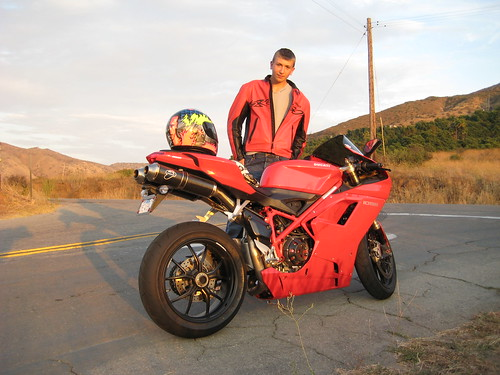helmet: (165, 104, 218, 154)
